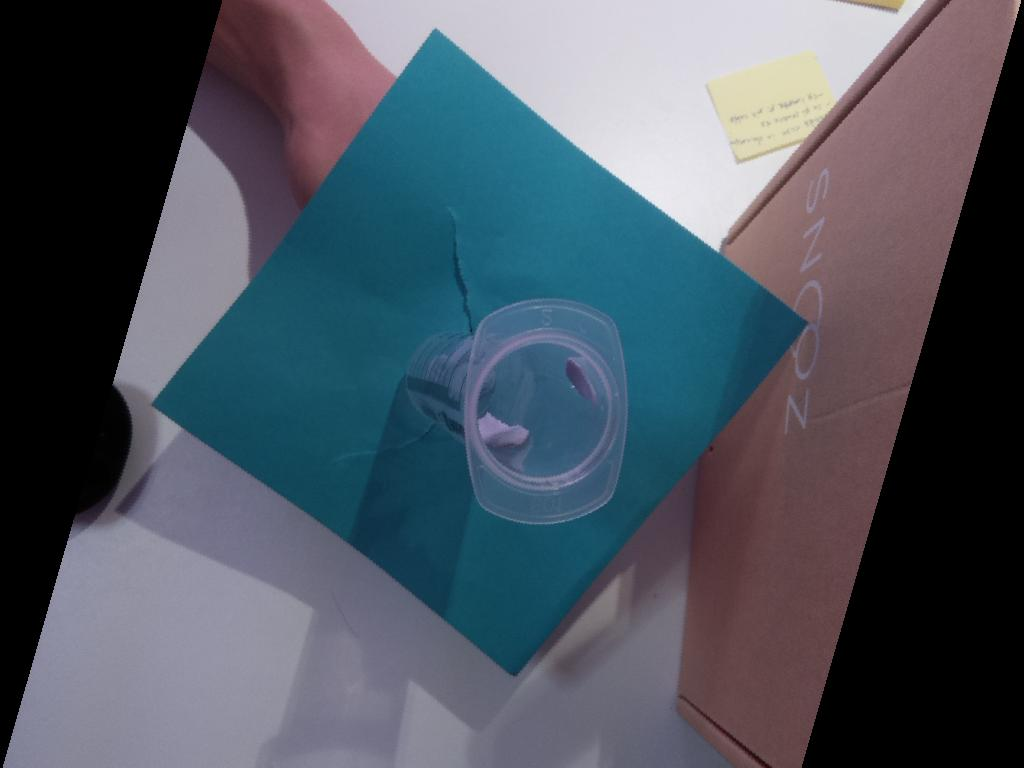dirty: (461, 297, 630, 523)
